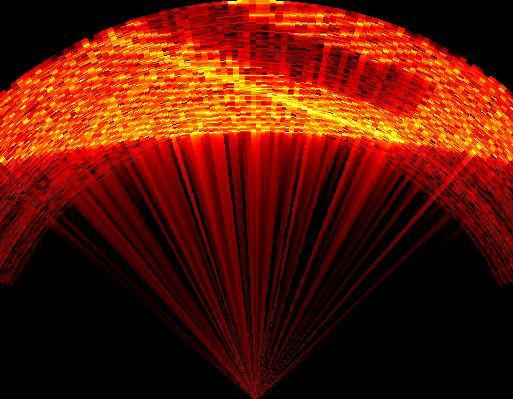pipe: (111, 8, 438, 144)
